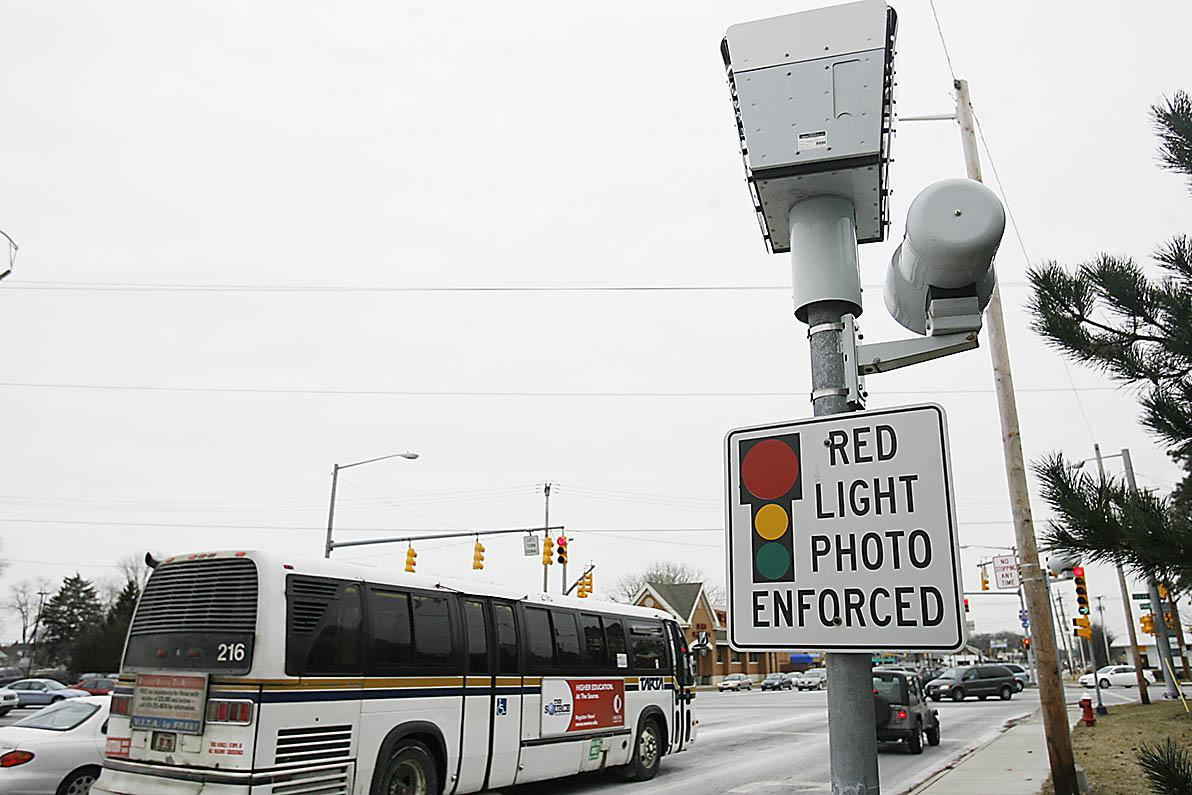Monitor: (858, 146, 1019, 406)
